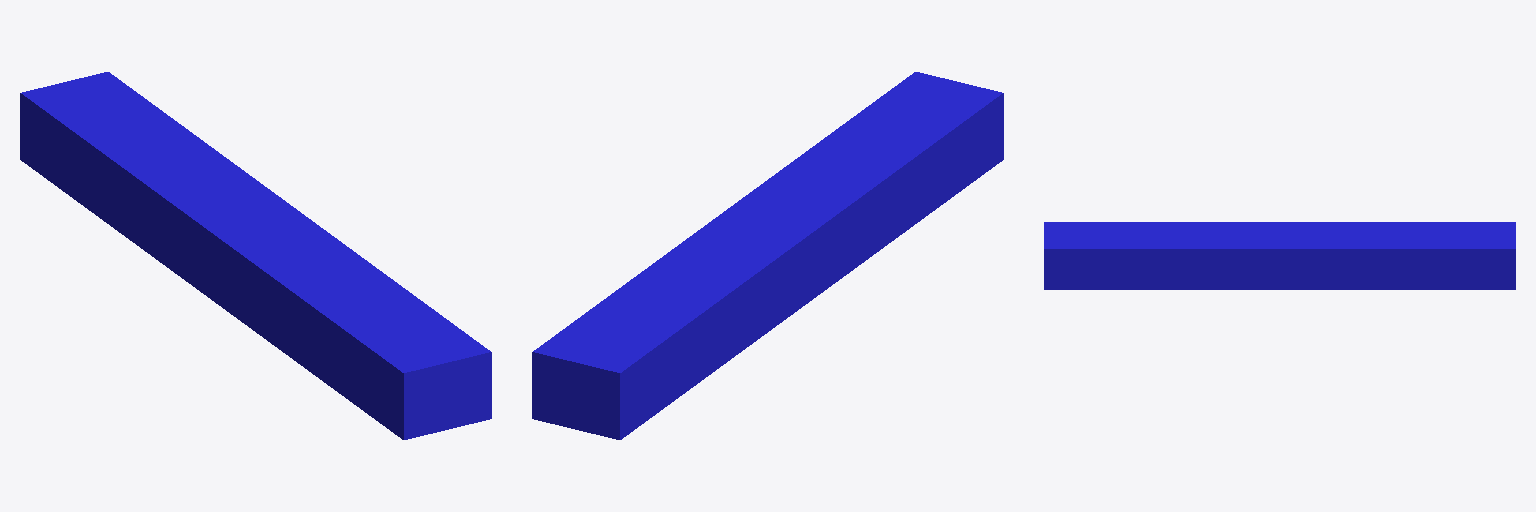
robot.urdf — CinderBlock:
<?xml version="1.0" ?>

<robot name="CinderBlock">
  <material name="Blue">
    <color rgba="0.2 0.2 0.9 1.0"/>
  </material>
  <material name="Green">
    <color rgba="0.2 0.9 0.2 1.0"/>
  </material>
  <material name="Red">
    <color rgba="0.9 0.2 0.2 1.0"/>
  </material>

  <link name="block">
    <inertial>
      <mass value="0"/>
      <inertia ixx="0" ixy="0" ixz="0" iyy="0" iyz="0" izz="0"/>
      <origin xyz="0 0 0"/>
    </inertial>

    <visual>
      <geometry>
        <box size="0.397 3 0.29"/>
      </geometry>
      <material name="Blue"/>
    </visual>

    <collision>
      <geometry>
        <box size="0.397 3  0.29"/>
      </geometry>
    </collision>
  </link>
</robot>

--- What the picture shows (computed from the rendered views, not written in the file) ---
3 views of the same robot in one strip: view 1: azimuth 30°, elevation 25°; view 2: azimuth 150°, elevation 25°; view 3: azimuth 270°, elevation 25° (orthographic).
Model CinderBlock with 1 links and 0 joints (none), rooted at block, posed all joints at 0.
Links seen in each view (by area): view 1: block; view 2: block; view 3: block.
Link boxes in pixels (x1,y1,x2,y2): block: [20, 72, 491, 439]; block: [532, 72, 1003, 439]; block: [1044, 222, 1515, 289].
Size in the robot's own frame: 0.397 by 3 by 0.29 metres.
Geometry: primitives only (box / cylinder / sphere), no mesh files.